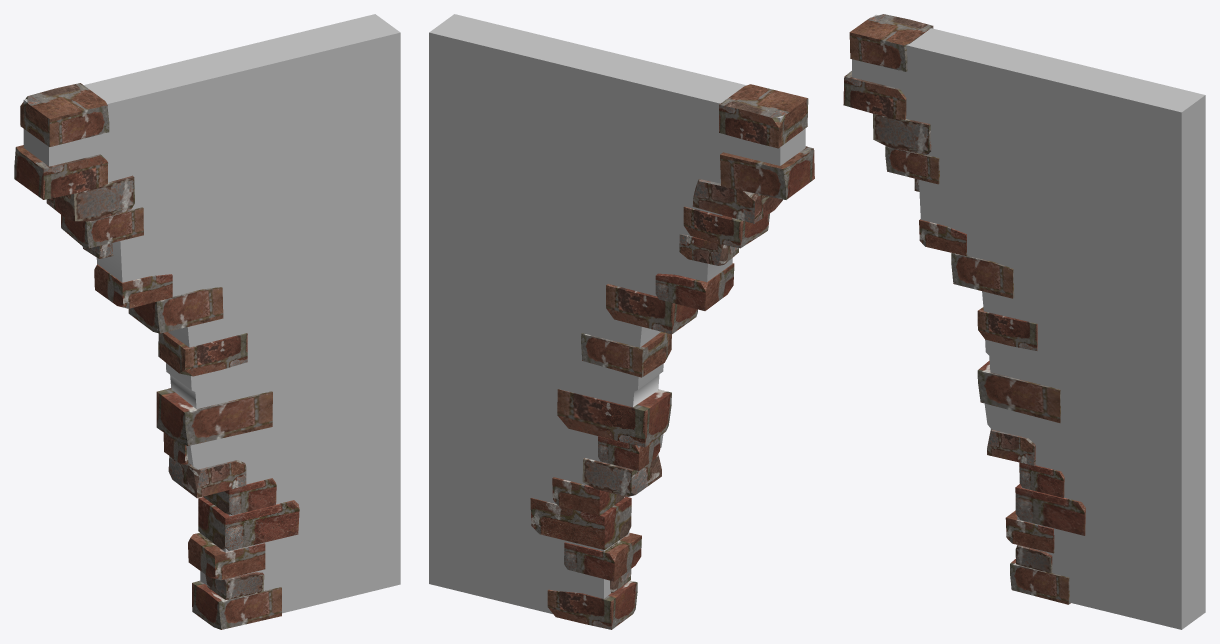
File: SM_Wall_Ruined_14.fbx
3 views of the same model, side by side, from view 1: azimuth 30°, elevation 25°; view 2: azimuth 150°, elevation 25°; view 3: azimuth 330°, elevation 25° (orthographic). The views are drawn at different scales.
Parts seen in each view (by area): view 1: SM_Wall_Ruined_14_LOD0; view 2: SM_Wall_Ruined_14_LOD0; view 3: SM_Wall_Ruined_14_LOD0.
Part boxes in pixels (x1,y1,x2,y2): SM_Wall_Ruined_14_LOD0: [14, 14, 400, 629]; SM_Wall_Ruined_14_LOD0: [429, 14, 814, 629]; SM_Wall_Ruined_14_LOD0: [843, 14, 1205, 629].
Size of what is drawn, in the model's own units: 409 by 603 by 61.36.
